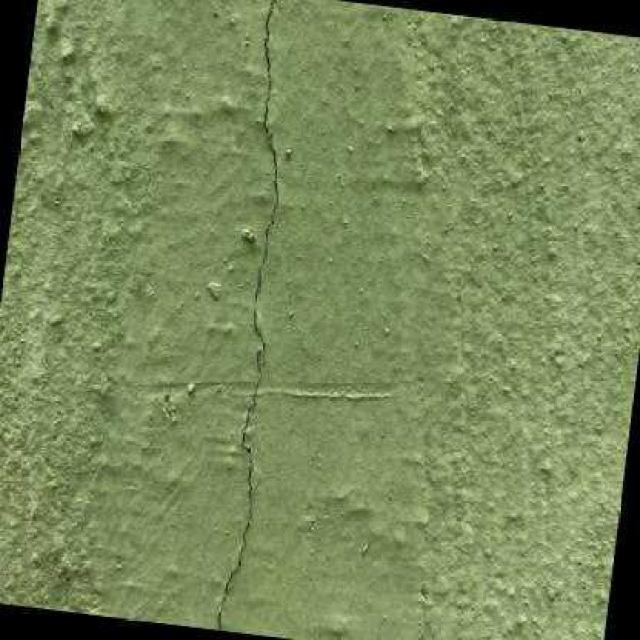D00: (217, 0, 278, 630)
